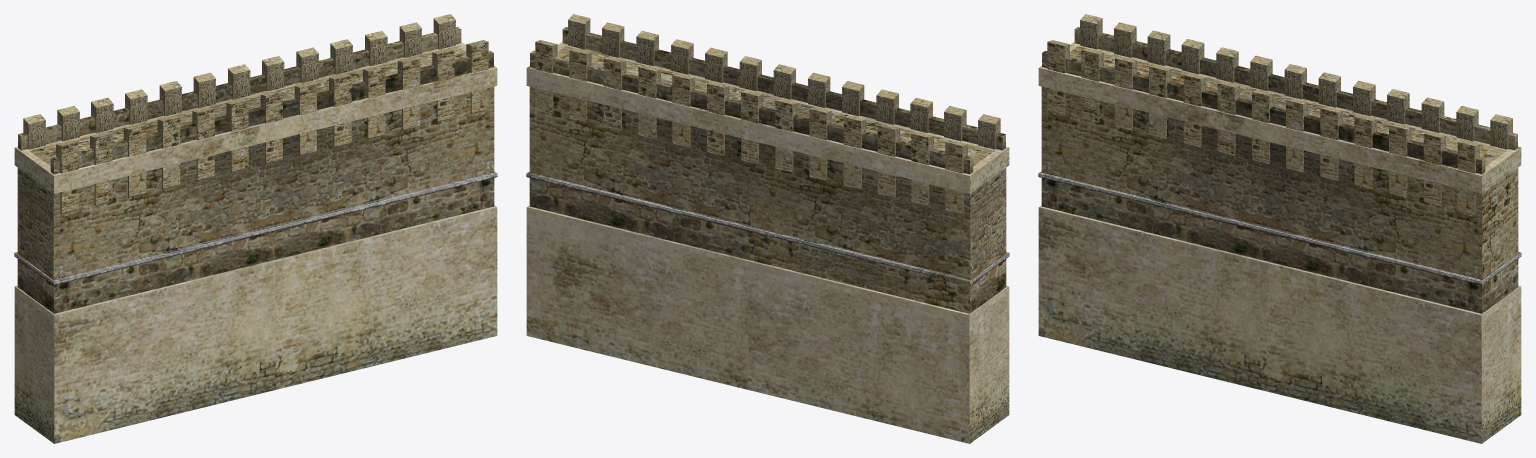
Rendered from s_hellenes_wall_long.glb.
3 views of the same model, side by side, from view 1: azimuth 30°, elevation 25°; view 2: azimuth 150°, elevation 25°; view 3: azimuth 330°, elevation 25° (orthographic).
Parts seen in each view (by area): view 1: s_hellenes_wall_long_part0; view 2: s_hellenes_wall_long_part0; view 3: s_hellenes_wall_long_part0.
Part boxes in pixels (left/top/right/bottom): s_hellenes_wall_long_part0: left=14, top=14, right=497, bottom=443; s_hellenes_wall_long_part0: left=526, top=14, right=1009, bottom=443; s_hellenes_wall_long_part0: left=1038, top=14, right=1521, bottom=443.
Bounding box in the file's own units: 9.07 × 5.77 × 1.4.
1 material, 1 textured.
